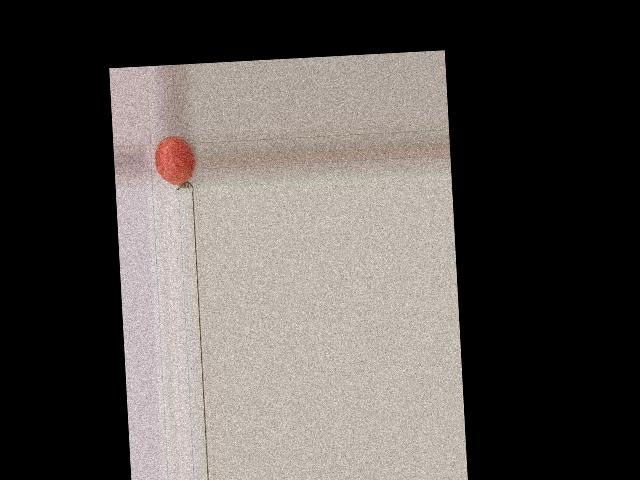tomato: (153, 135, 196, 186)
